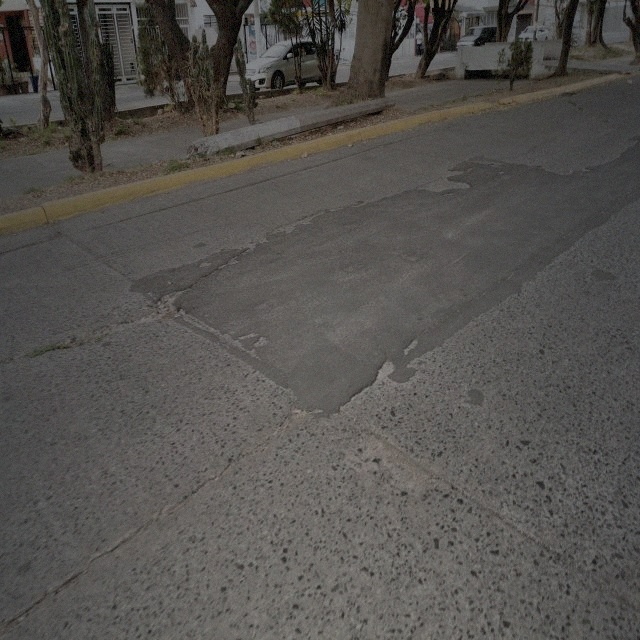pothole: (148, 280, 192, 326), (279, 399, 322, 437), (93, 315, 139, 346), (424, 176, 474, 194), (374, 356, 396, 385), (404, 336, 418, 358)
